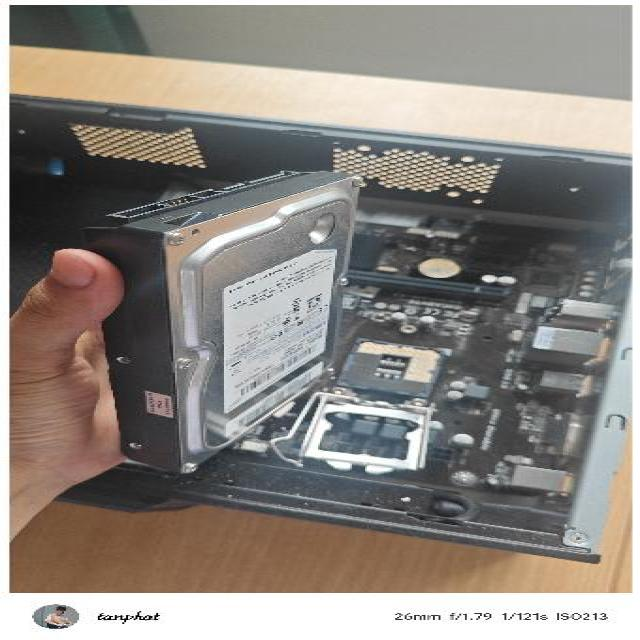DISK: (80, 165, 360, 478)
